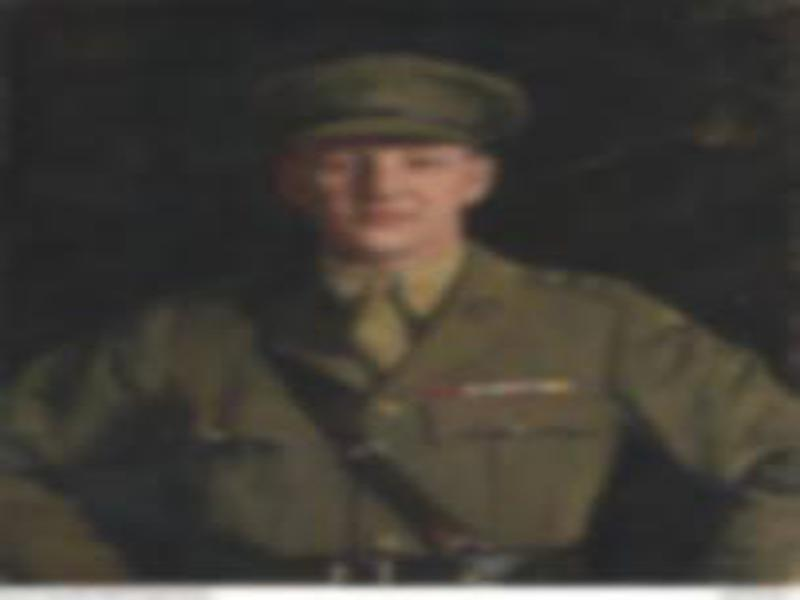without_mask: (300, 140, 465, 253)
